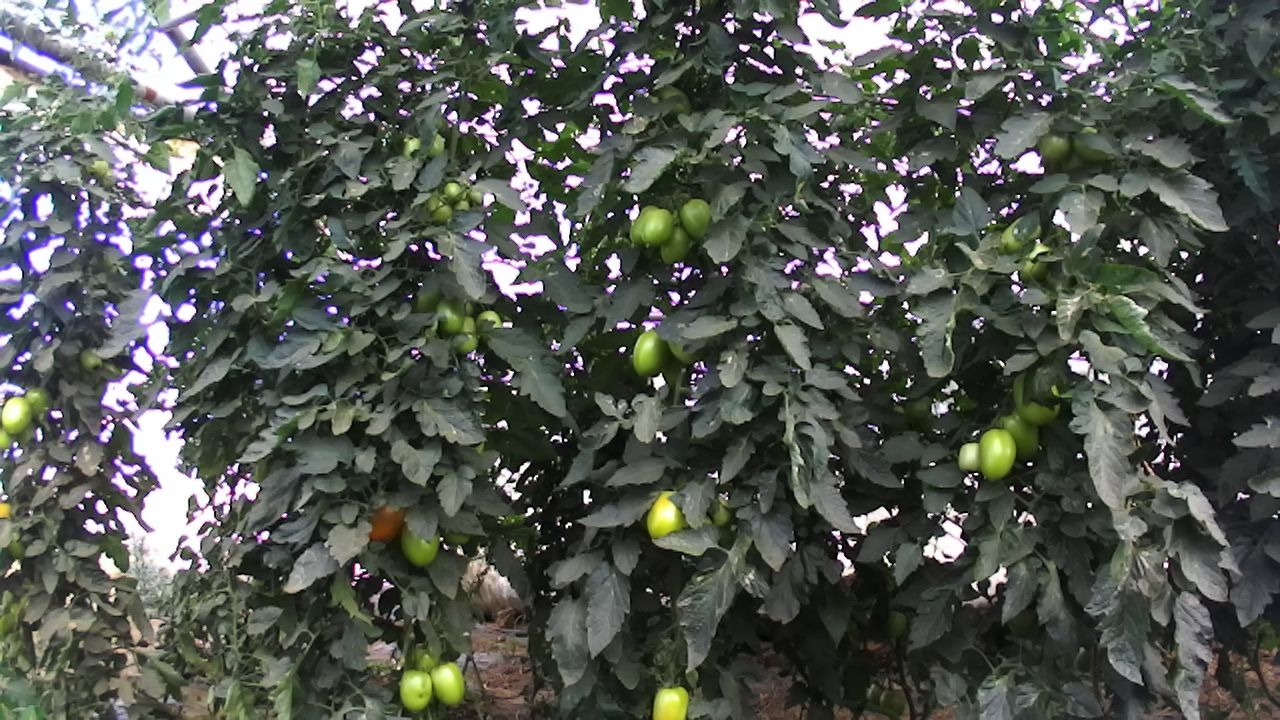tomato: (994, 409, 1043, 464), (643, 487, 688, 542), (975, 426, 1017, 484), (398, 522, 442, 570), (428, 661, 468, 709), (632, 327, 667, 379), (397, 667, 434, 714), (1031, 126, 1074, 165), (636, 206, 674, 250), (649, 682, 691, 720), (677, 198, 712, 240), (431, 297, 465, 340), (1, 394, 36, 435), (660, 225, 691, 265), (449, 317, 478, 355), (76, 345, 103, 375), (958, 442, 982, 474)
